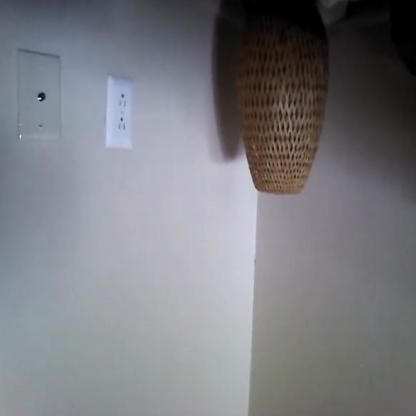OUTLET: (104, 73, 132, 150)
